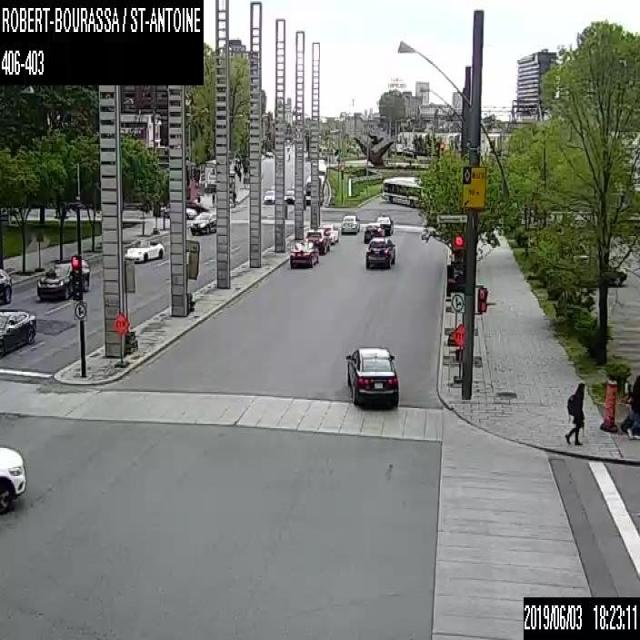bus: (380, 175, 423, 208), (304, 173, 324, 204), (318, 158, 326, 176)
construction: (122, 260, 137, 352), (185, 237, 200, 310), (112, 310, 130, 368), (449, 322, 463, 382), (602, 377, 616, 431)
pedestrian: (564, 382, 586, 446), (620, 375, 639, 437), (195, 192, 200, 205), (211, 192, 215, 207), (232, 191, 235, 205), (238, 170, 241, 182)
vehicle: (345, 345, 398, 407), (34, 255, 90, 297), (0, 306, 35, 356), (0, 444, 25, 513), (124, 238, 164, 262), (365, 236, 395, 268), (289, 240, 318, 268), (160, 200, 196, 218), (304, 228, 330, 252), (189, 210, 216, 233), (317, 222, 338, 245), (363, 221, 384, 243), (0, 266, 12, 302), (374, 212, 392, 234), (340, 214, 359, 233), (262, 188, 274, 204), (282, 188, 294, 204)
